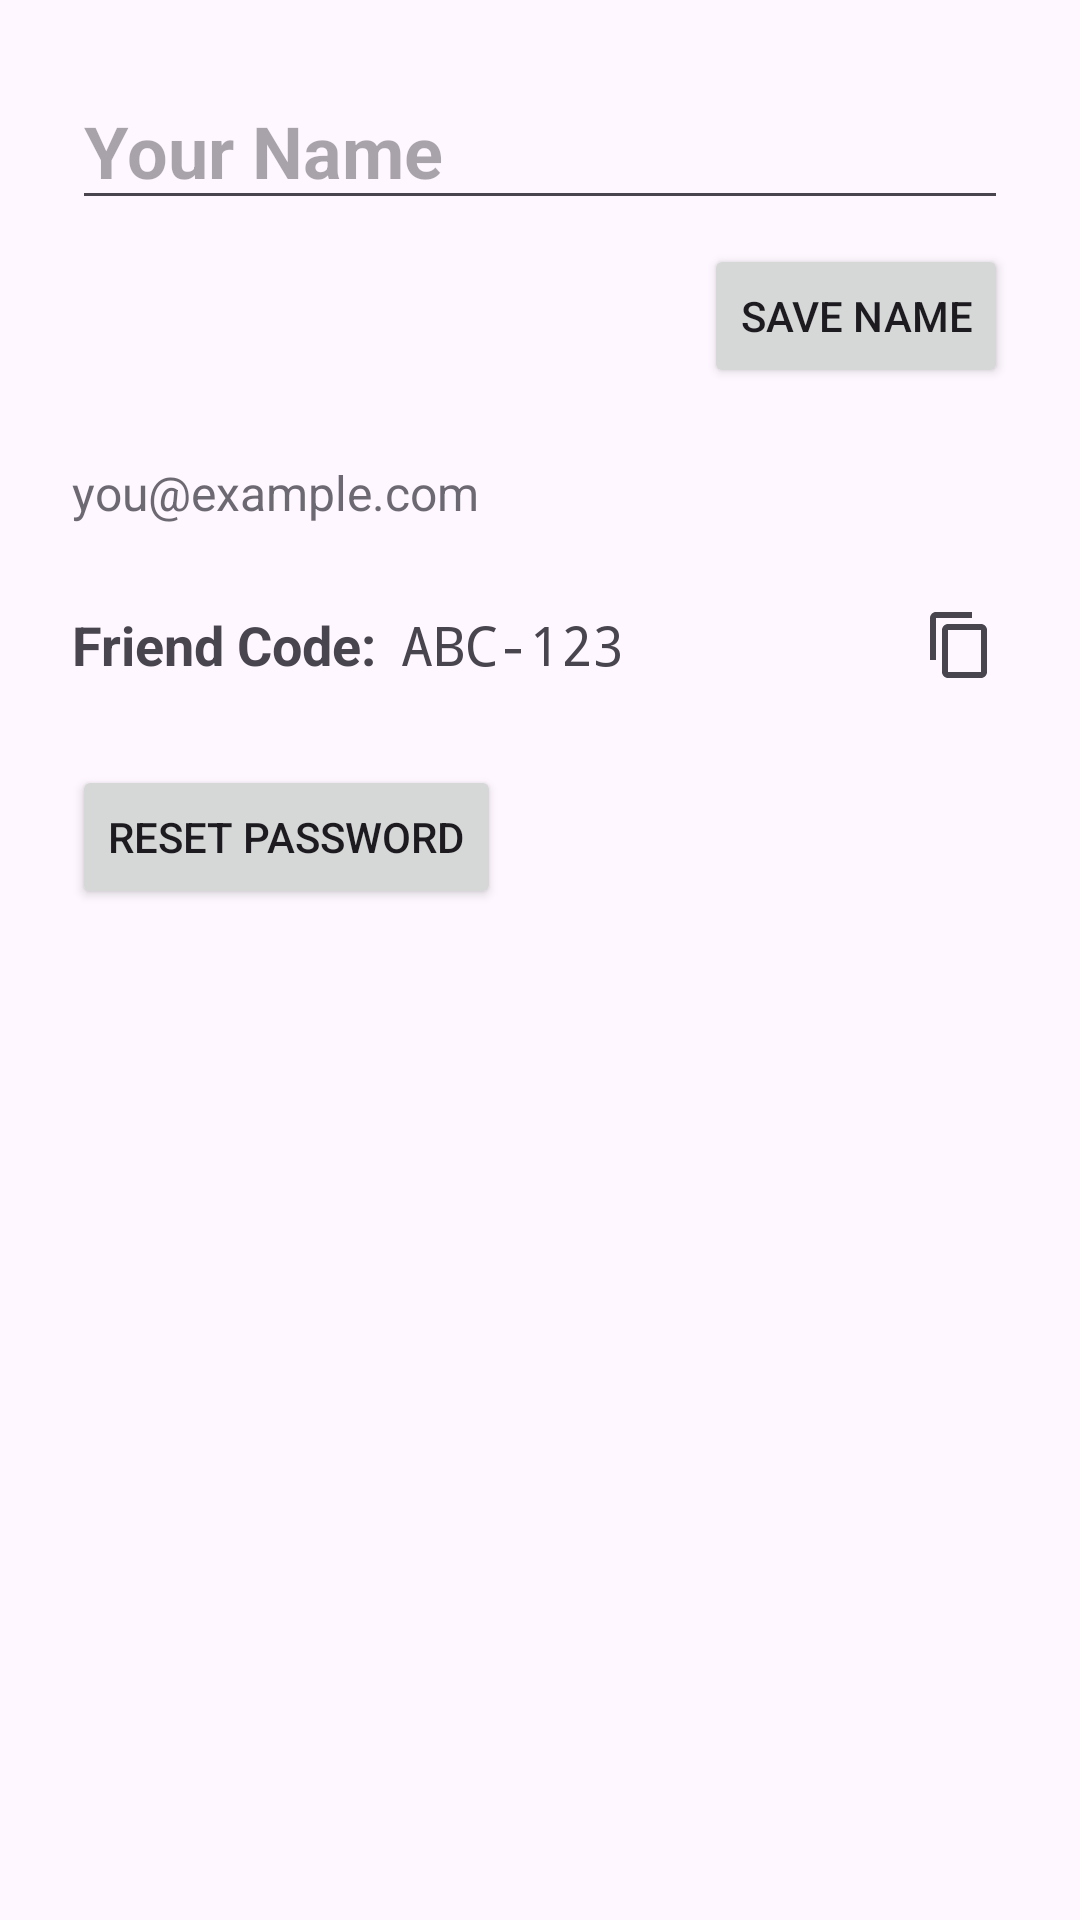

Screen size 1080 x 1920. Icon name, then its center in pixels as (x=x, y=y):
Copy Friend Code: (x=958, y=645)
